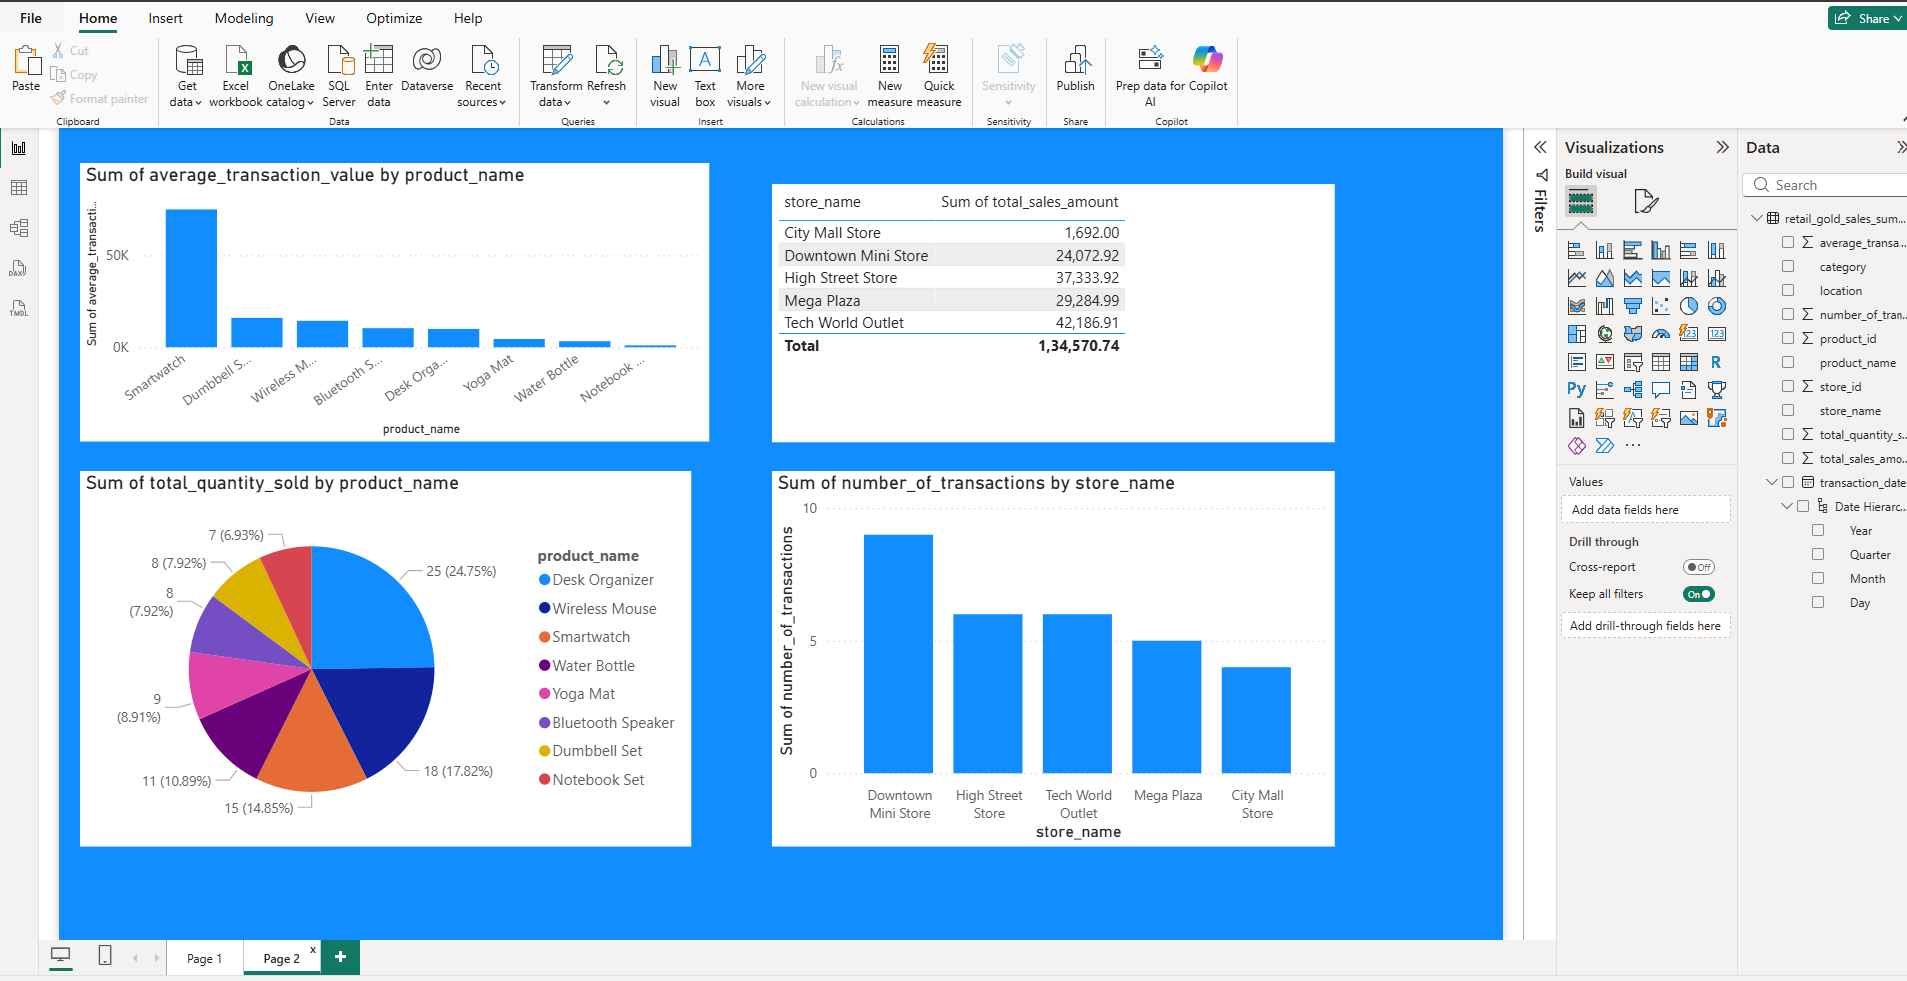

What the dashboard file says about the page in this screenshot:
{"tool":"powerbi","page":{"name":"Page 2","canvas":[1280,720],"ordinal":1},"visuals":[{"type":"clusteredColumnChart","fields":{"Y":["Sum(retail_gold_sales_summary.average_transaction_value)"],"Category":["retail_gold_sales_summary.product_name"]},"box":[18.6,31,557.7,247.4],"z":0},{"type":"tableEx","fields":{"Values":["retail_gold_sales_summary.store_name","Sum(retail_gold_sales_summary.total_sales_amount)"]},"box":[632.2,49.7,499.2,228.8],"z":1},{"type":"pieChart","fields":{"Y":["Sum(retail_gold_sales_summary.total_quantity_sold)"],"Category":["retail_gold_sales_summary.product_name"]},"box":[18.6,304.1,541.8,332.5],"z":2},{"type":"columnChart","fields":{"Y":["Sum(retail_gold_sales_summary.number_of_transactions)"],"Category":["retail_gold_sales_summary.store_name"]},"box":[632,304,499,333],"z":3}]}

Visuals, with their boxes on the page's 1280x720 design canvas (x1, y1, x2, y2). These are canvas units, not pixel positions in the 1907x981 screenshot, which may show the page scaled, cropped or inside an application window:
clusteredColumnChart - Sum(retail_gold_sales_summary.average_transaction_value) x retail_gold_sales_summary.product_name: 19/31/576/278
tableEx - retail_gold_sales_summary.store_name x Sum(retail_gold_sales_summary.total_sales_amount): 632/50/1131/278
pieChart - Sum(retail_gold_sales_summary.total_quantity_sold) x retail_gold_sales_summary.product_name: 19/304/560/637
columnChart - Sum(retail_gold_sales_summary.number_of_transactions) x retail_gold_sales_summary.store_name: 632/304/1131/637
